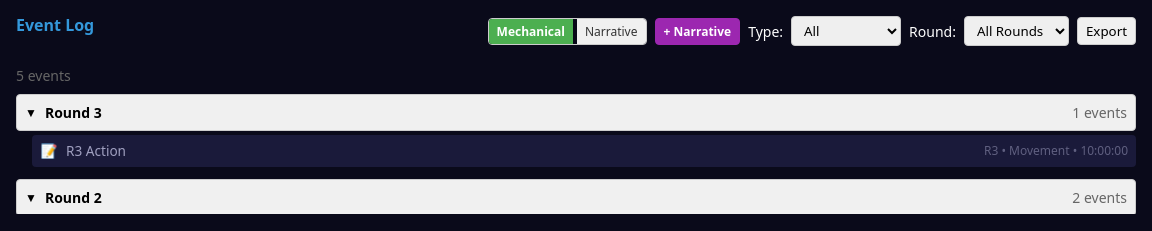
EventLog › round selector › should filter events by selected round
Select "Round 2" in the dropdown labelled "Round:" at (1016, 31), box [964,16,1069,46]
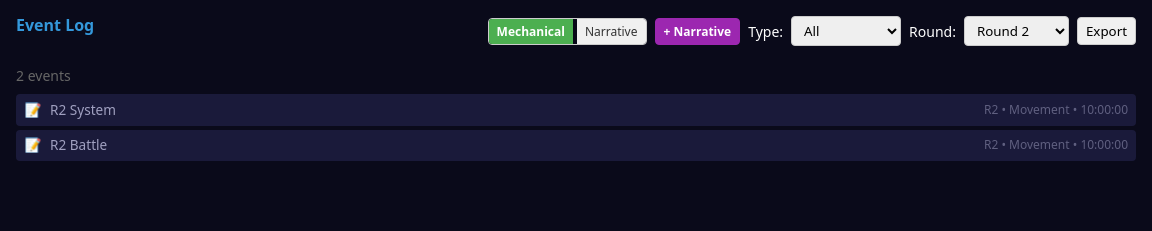
Check: the text "R2 System" is shown, box [50,100,116,119]
Check: the text "R2 Battle" is shown, box [50,135,107,154]
Check: the text "R3 Action" is gone
